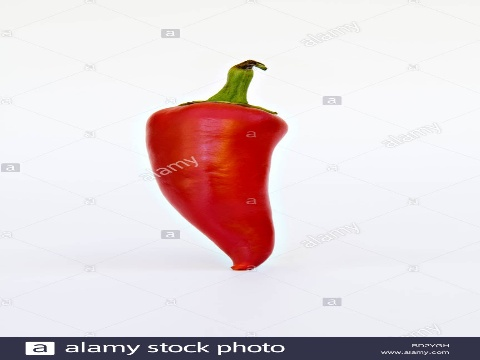Chilli: (133, 55, 319, 280)
